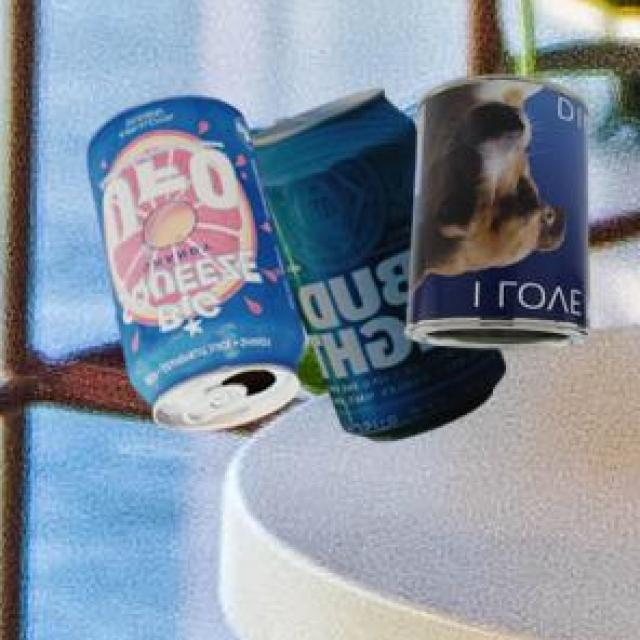logam: (254, 85, 509, 438), (92, 92, 308, 427), (408, 72, 594, 345)
